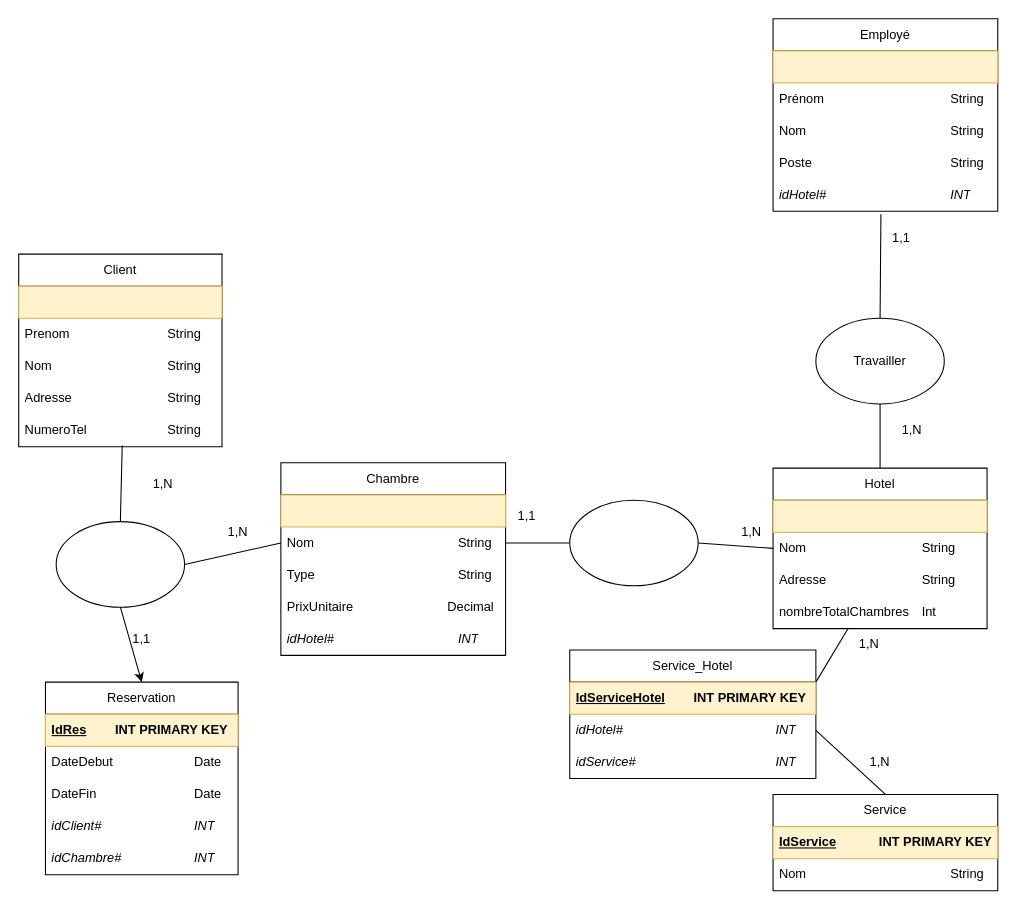
The diagram is 1017 pixels wide and 910 high, and some of its shapes have lost their labels. Each missing label, with the centre of its shape:
Avoir: point (633, 542)
Effectuer: point (120, 564)
IdChambre INT PRIMARY KEY: point (393, 510)
IdClient INT PRIMARY KEY: point (120, 301)
IdEmployé INT PRIMARY KEY: point (885, 66)
IdHotel INT PRIMARY KEY: point (879, 515)
